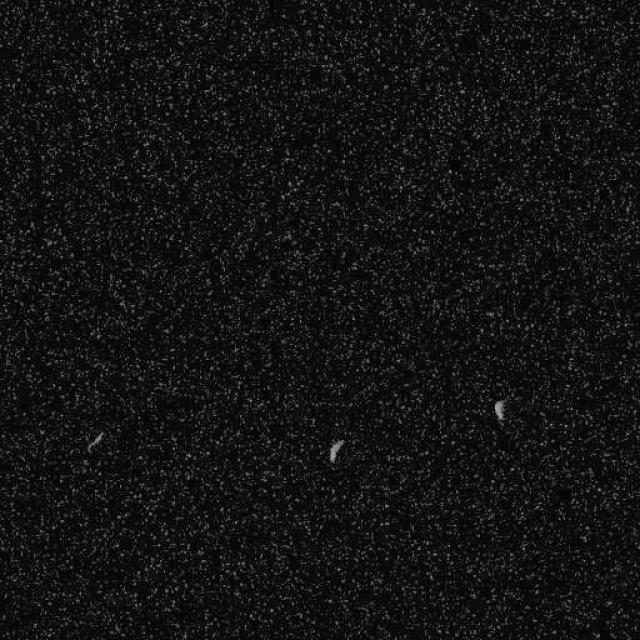D2: (327, 438, 345, 463), (85, 430, 105, 451), (492, 398, 507, 422)
